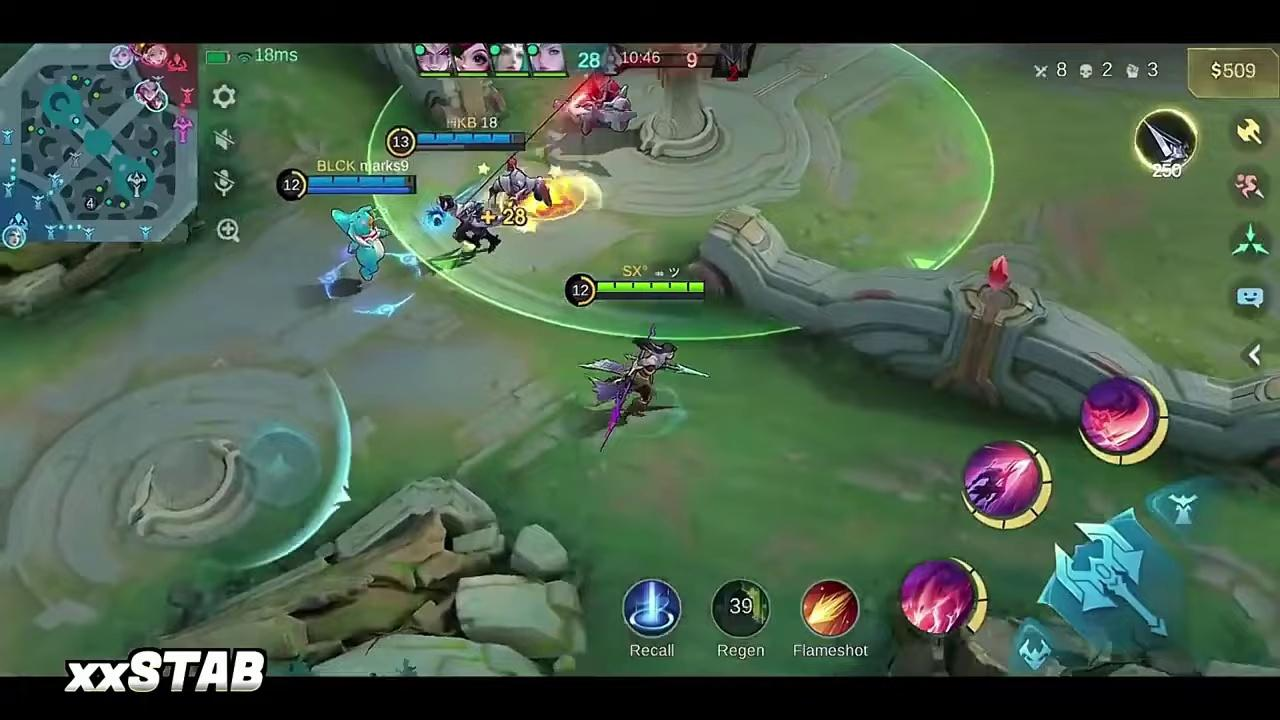Adc_Aliado: (110, 46, 135, 68)
Adc_Enemigo: (147, 46, 167, 66)
Arlott: (577, 325, 715, 455)
Dyrrot: (424, 196, 514, 262)
Esbirro_Enemigo: (560, 74, 638, 132)
Exp_Aliado: (146, 91, 168, 110)
HP_Aliado: (413, 131, 530, 146), (309, 178, 413, 187)
HP_Heroe_Principal: (598, 282, 703, 292)
Hechizo_Batalla: (806, 579, 862, 636)
Jungla_Aliado: (140, 79, 161, 101)
Lord_Activo: (173, 111, 194, 147)
Mana: (306, 187, 415, 193)
Mid_Aliado: (2, 226, 25, 249)
Mid_Enemigo: (140, 41, 156, 65)
Minimapa: (0, 44, 200, 243)
Nana: (317, 203, 382, 296)
Roamer_Aliado: (135, 81, 150, 103)
Skill1: (896, 563, 979, 637)
Skill2: (960, 441, 1047, 528)
Torre_Enemiga: (638, 67, 723, 157)
Torre_destruida: (118, 439, 244, 542)
skill3: (1073, 375, 1172, 466)
